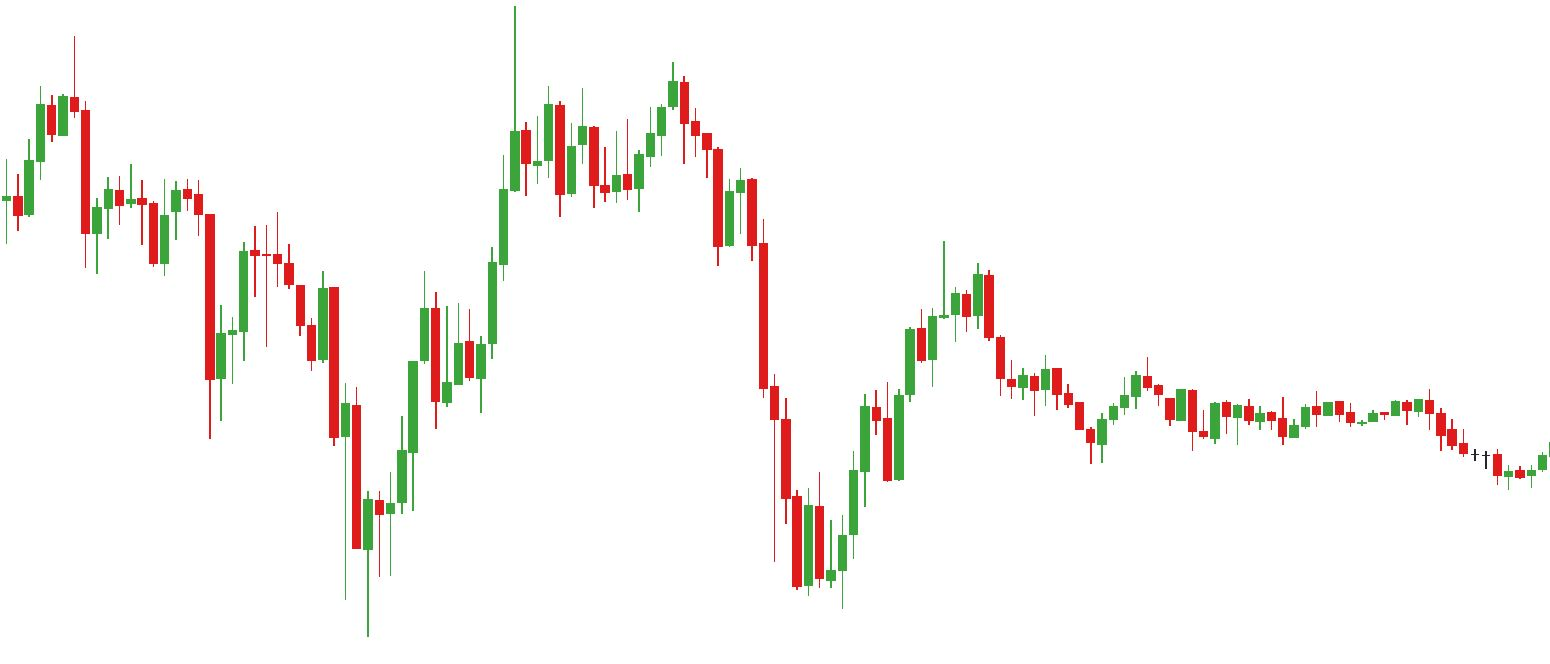buy: (373, 359, 816, 603)
sell: (68, 4, 523, 338), (576, 65, 690, 182)
